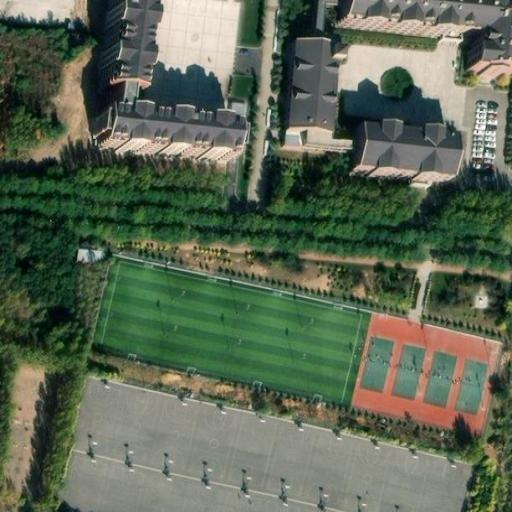building: (94, 0, 232, 156), (359, 121, 460, 176), (288, 37, 341, 129), (299, 126, 361, 152), (73, 246, 99, 264)
